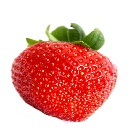strawberry: (8, 22, 119, 123)
